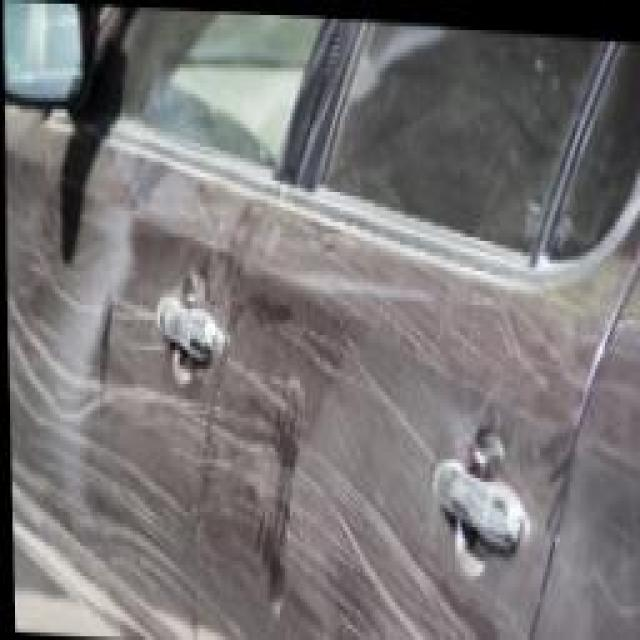Door: (208, 200, 511, 639), (5, 136, 202, 640)
